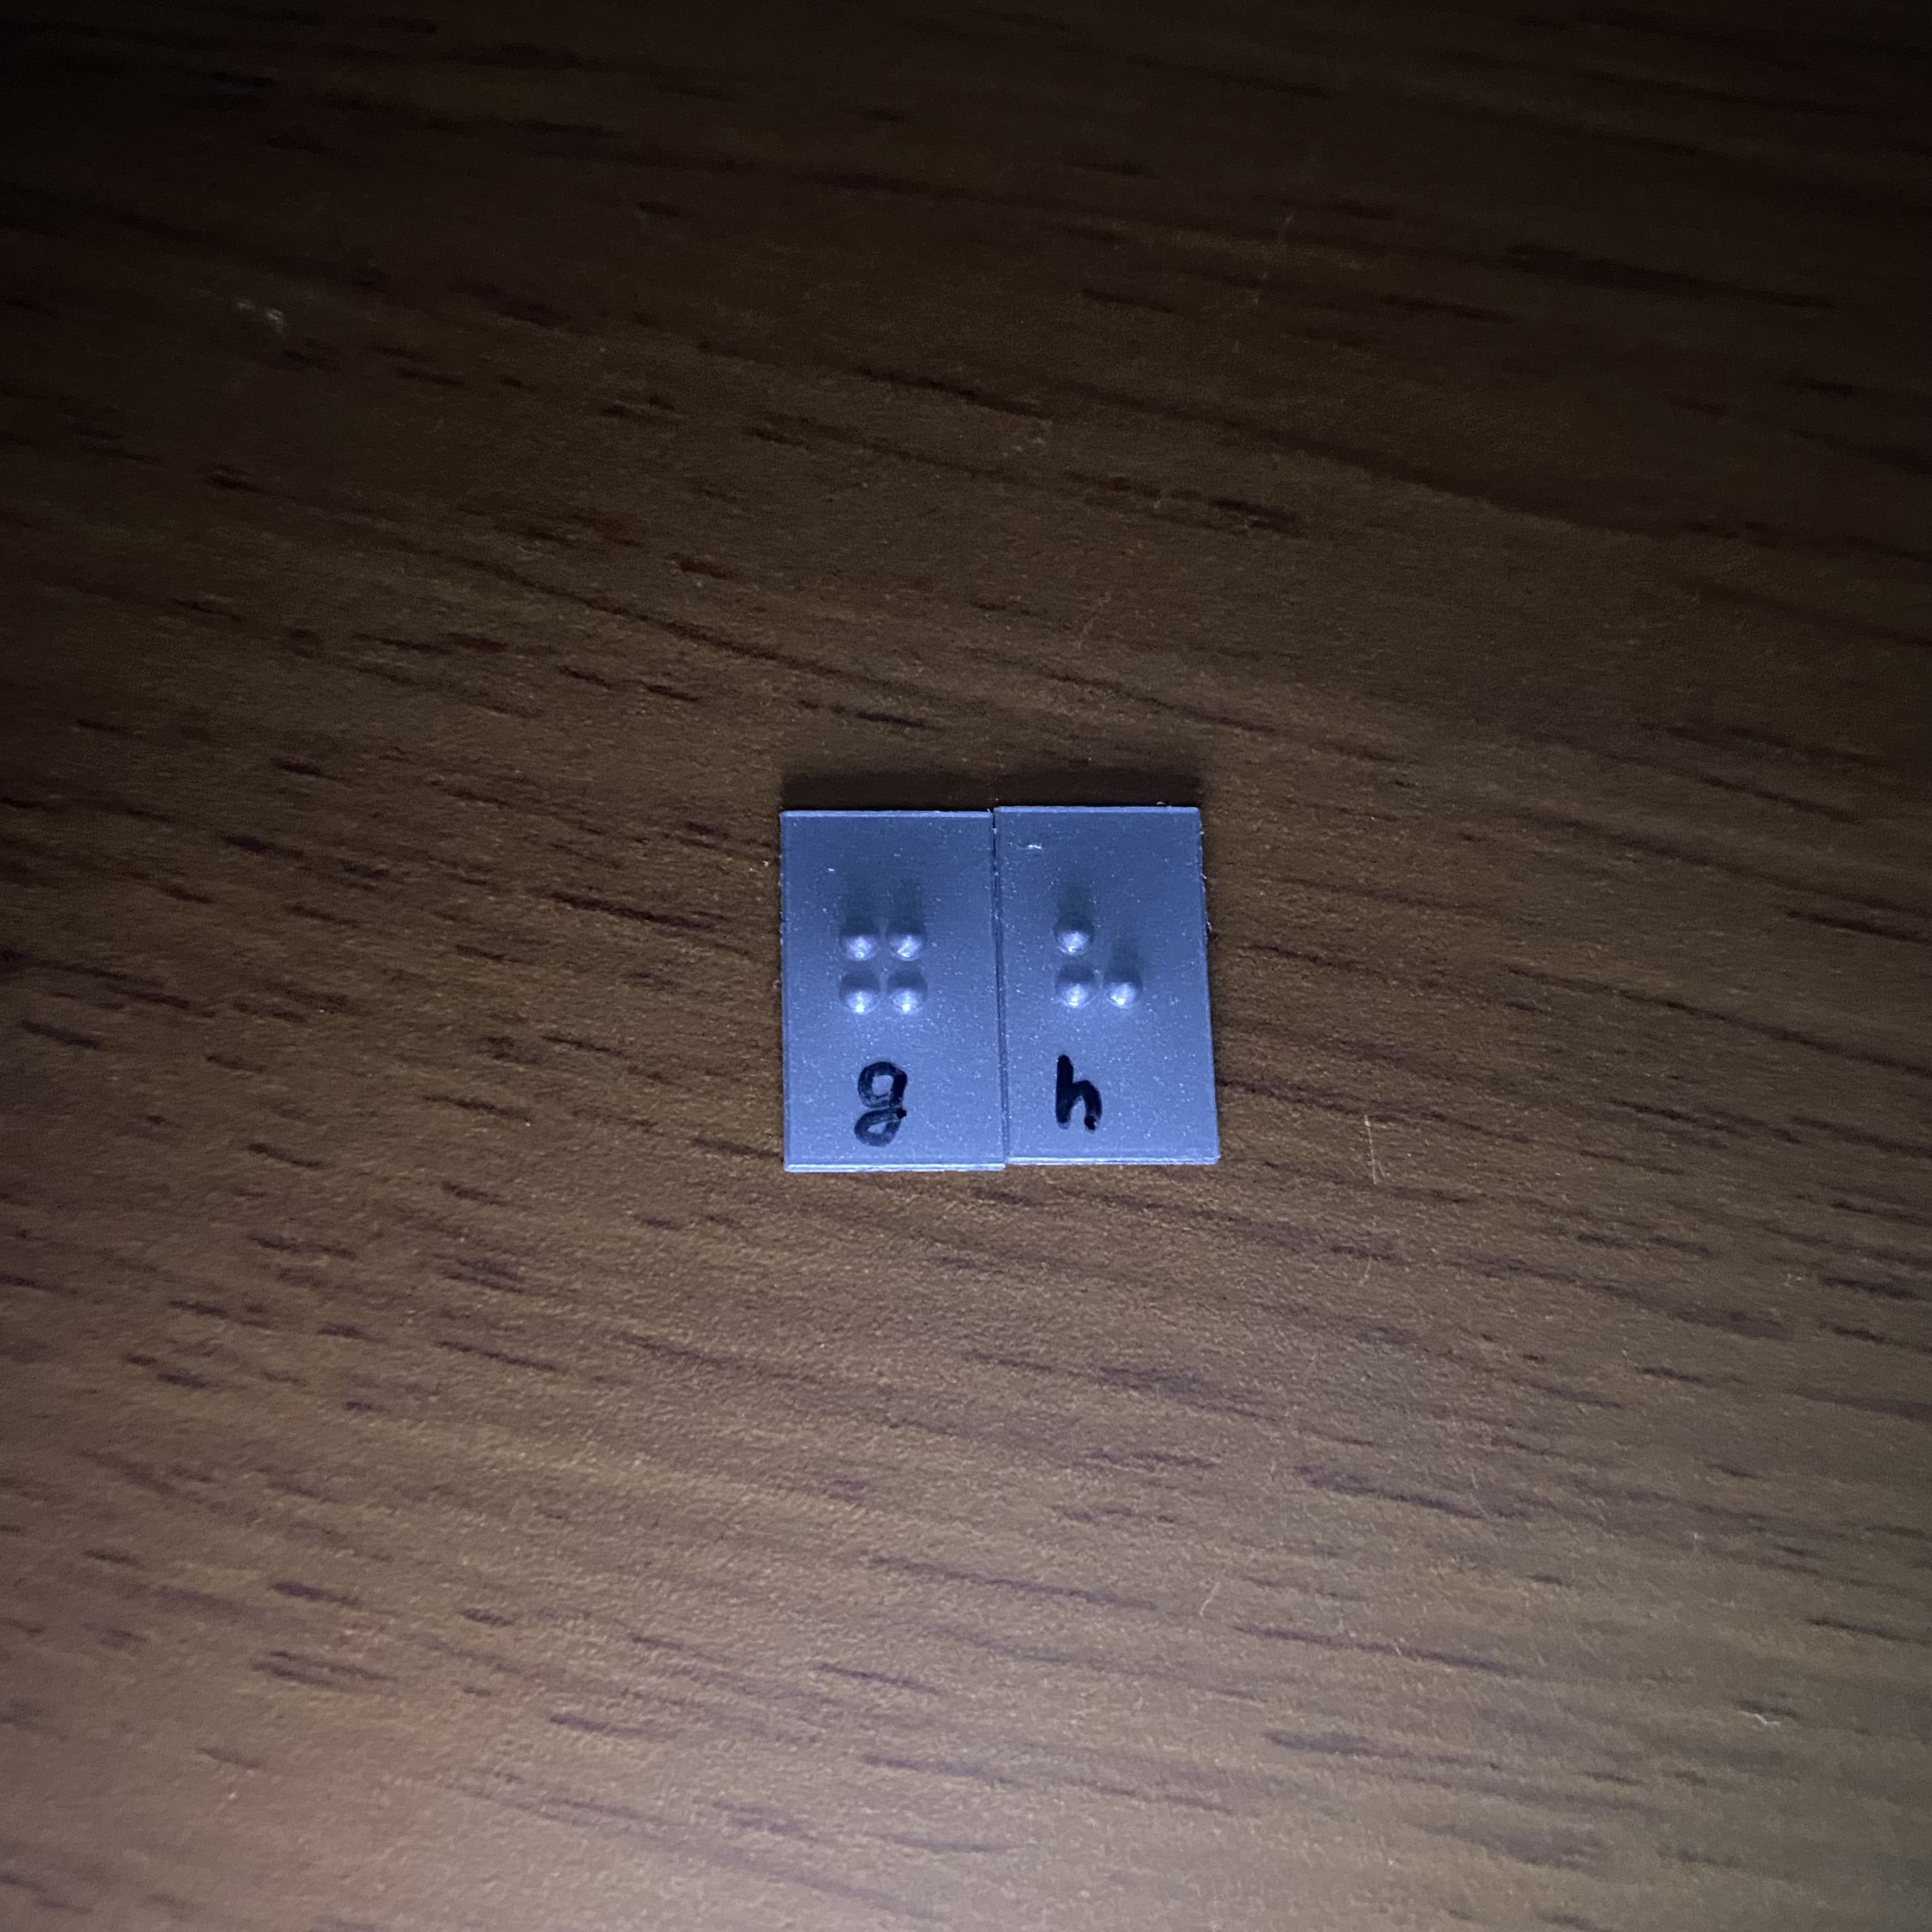g: (829, 892, 947, 1055)
h: (1043, 883, 1155, 1046)
